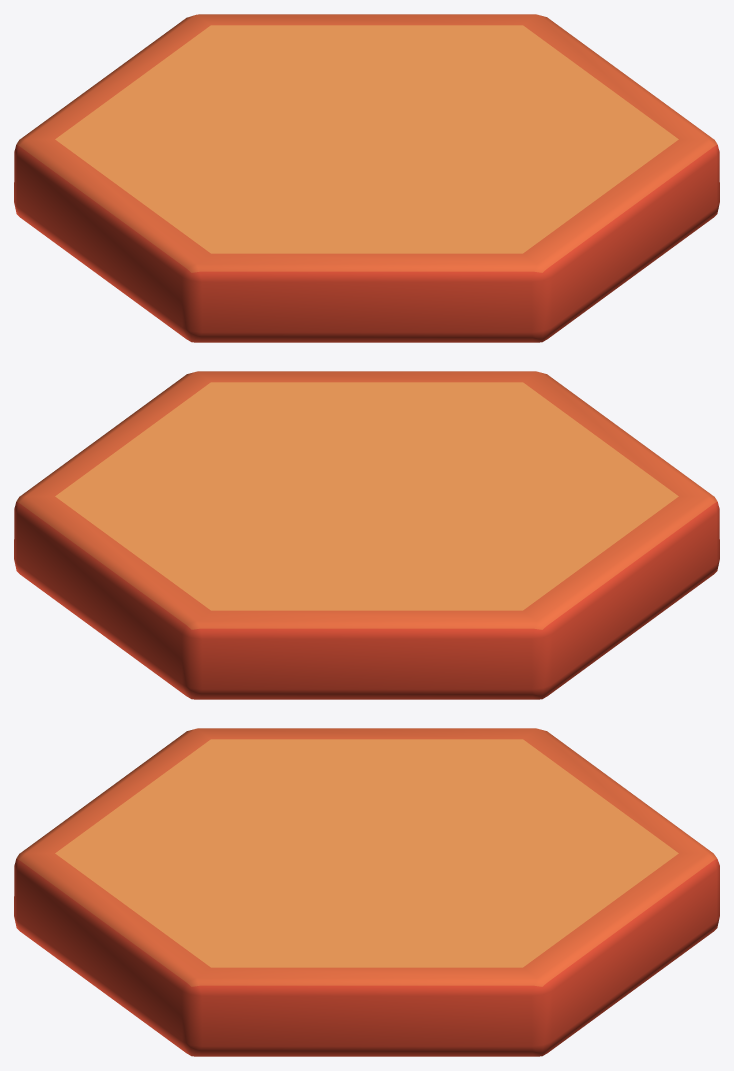
Rendered from Platform red 1.fbx.
3 renders of one model, top to bottom at view 1: azimuth 30°, elevation 25°; view 2: azimuth 150°, elevation 25°; view 3: azimuth 270°, elevation 25°, orthographic.
Visible parts, largest first — view 1: Platform red 1; view 2: Platform red 1; view 3: Platform red 1.
Part boxes in pixels (x1=…): Platform red 1: x1=14, y1=14, x2=719, y2=342; Platform red 1: x1=14, y1=371, x2=719, y2=699; Platform red 1: x1=14, y1=728, x2=719, y2=1056.
Size of the model in its own units: 625 by 83.5 by 715.
